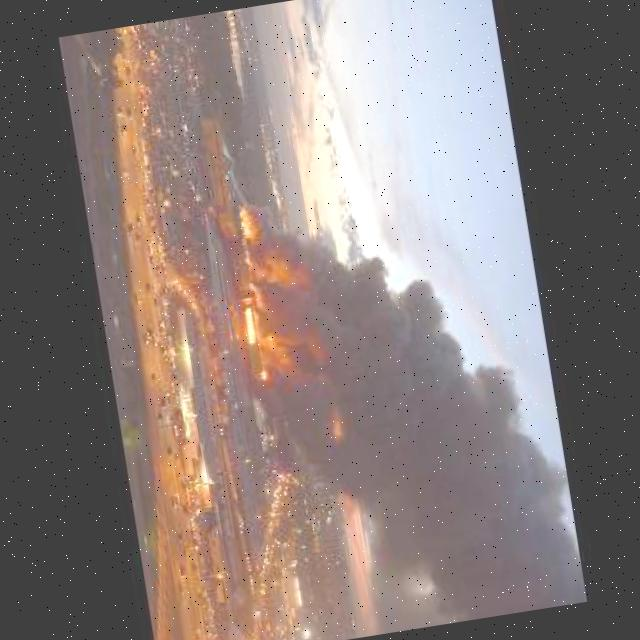fire: (249, 328, 305, 377), (242, 246, 287, 293), (238, 207, 257, 268)
